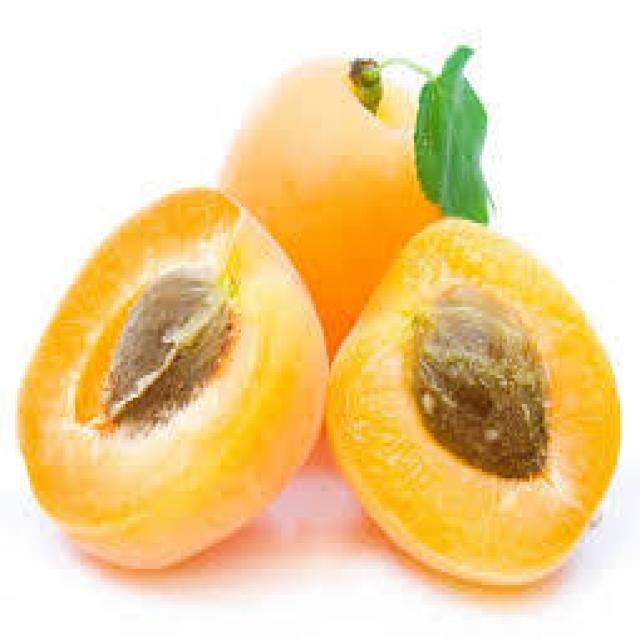cekirdek: (404, 284, 555, 482), (89, 269, 237, 430)
kayisi: (18, 187, 330, 576), (326, 211, 628, 590)
yaprak: (411, 44, 500, 229)
